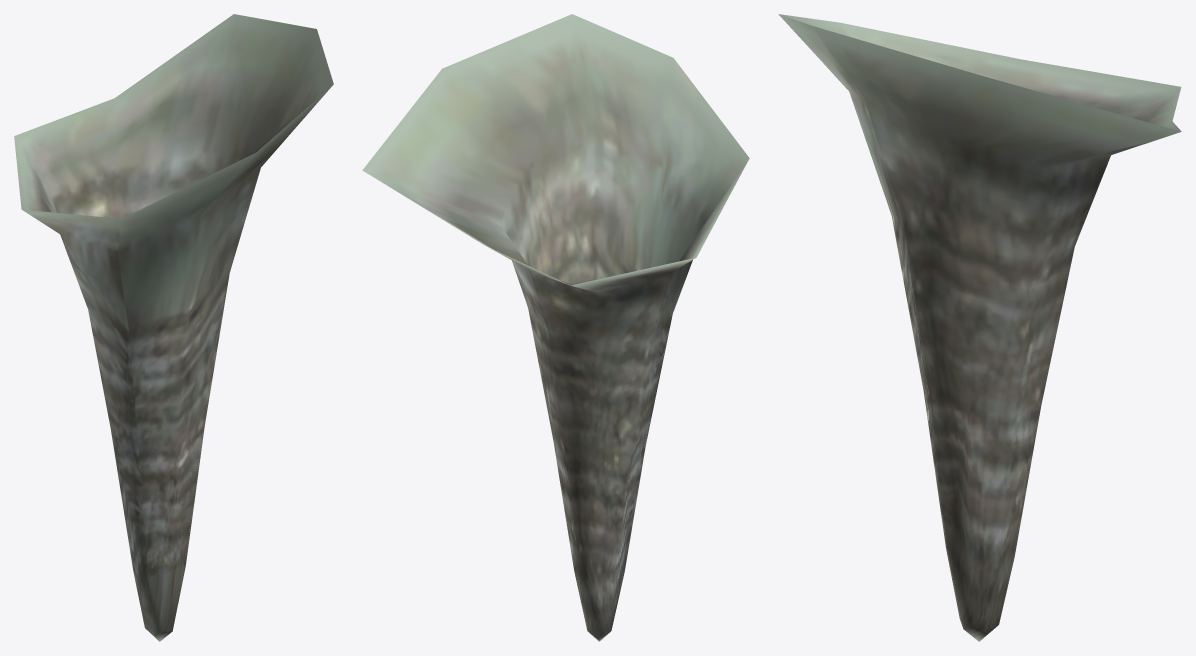
The model's file is TROLLHOLE02_PS-SECRETSTALAG28.fbx.
The picture shows the model from 3 angles, left to right: view 1: azimuth 30°, elevation 25°; view 2: azimuth 150°, elevation 25°; view 3: azimuth 270°, elevation 25°; orthographic projection. The views are drawn at different scales.
Parts seen in each view (by area): view 1: TROLLHOLE02_PS-SECRETSTALAG28; view 2: TROLLHOLE02_PS-SECRETSTALAG28; view 3: TROLLHOLE02_PS-SECRETSTALAG28.
Boxes of the visible parts, box(x1,y1,x2,y2) form: TROLLHOLE02_PS-SECRETSTALAG28: box(14, 14, 333, 641); TROLLHOLE02_PS-SECRETSTALAG28: box(362, 14, 749, 641); TROLLHOLE02_PS-SECRETSTALAG28: box(778, 14, 1181, 641).
Size of the model in its own units: 15666 by 31001 by 16858.
Materials: 1 (1 with a texture image).
